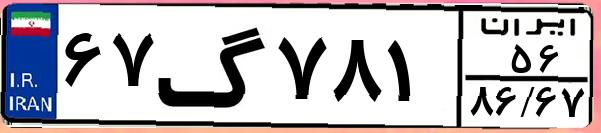1: (385, 28, 445, 110)
5: (508, 27, 537, 80)
6: (57, 26, 110, 100), (537, 27, 568, 80), (495, 70, 520, 125), (535, 70, 560, 125)
7: (270, 28, 330, 110), (110, 28, 156, 98), (560, 70, 590, 125)
8: (330, 28, 385, 110), (470, 70, 495, 125)
گ: (156, 12, 270, 120)
